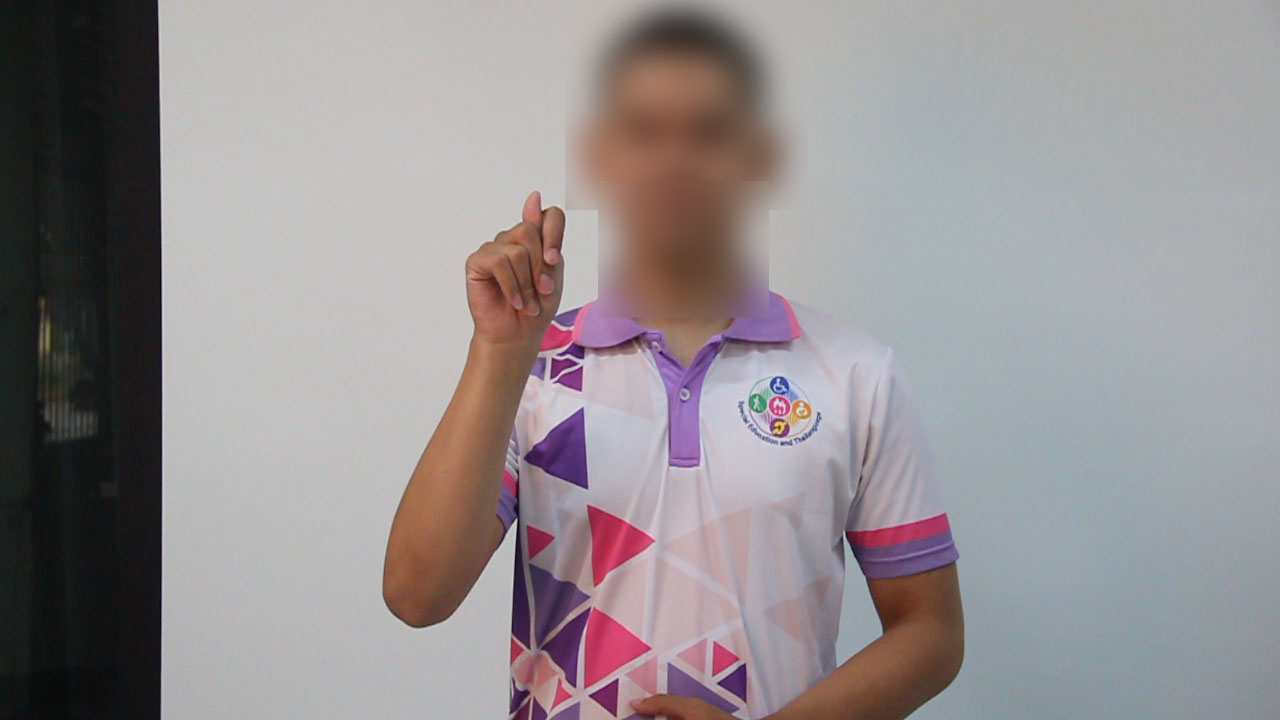tor: (443, 184, 586, 369)
